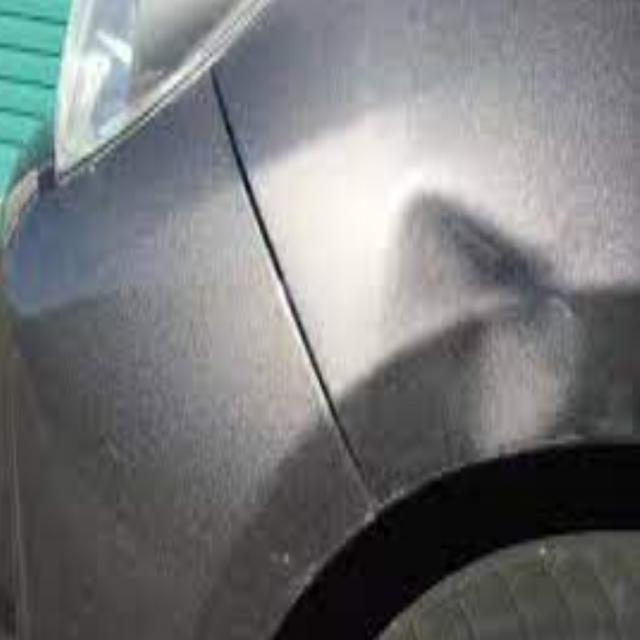dents: (356, 192, 588, 444)
